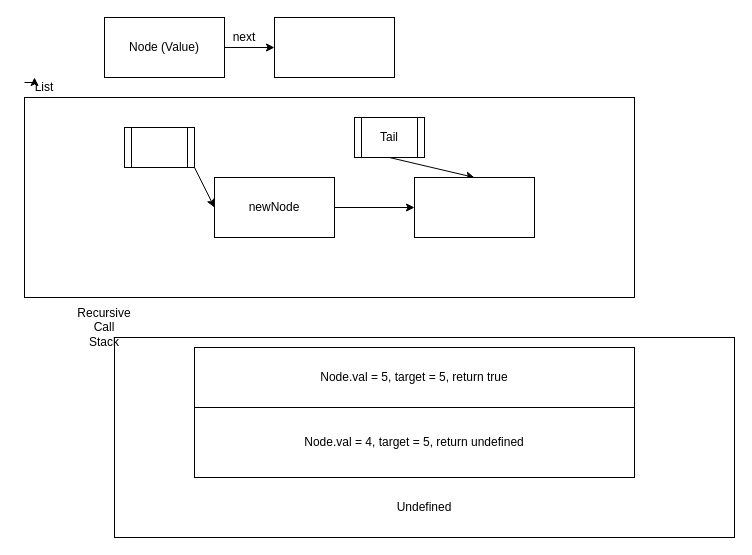
This 752x555 diagram has some shape labels left out. Each missing label, with the box of its shape:
Head: (124, 126, 194, 168)
null: (274, 16, 394, 78)
